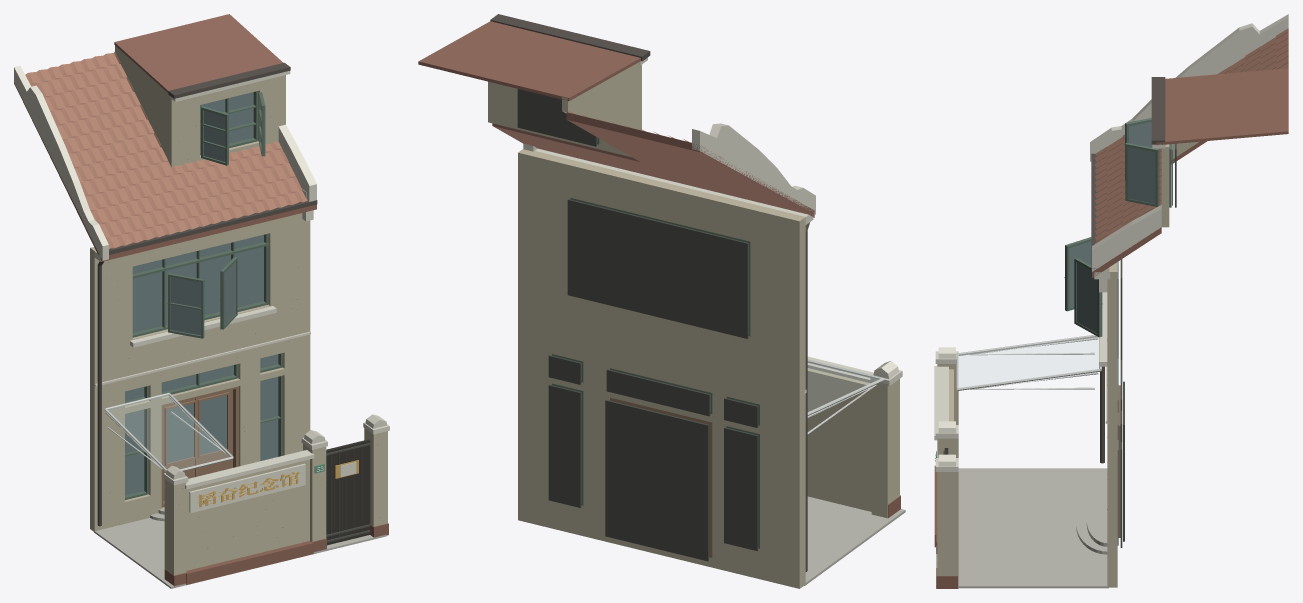
File: wanyi-no53-far.glb
The picture shows the model from 3 angles, left to right: view 1: azimuth 30°, elevation 25°; view 2: azimuth 150°, elevation 25°; view 3: azimuth 270°, elevation 25°; orthographic projection. The views are drawn at different scales.
Parts seen in each view (by area): view 1: 万宜坊韬奋纪念馆53号院门与南立面; view 2: 万宜坊韬奋纪念馆53号院门与南立面; view 3: 万宜坊韬奋纪念馆53号院门与南立面.
Boxes of the visible parts, x1,y1,x2,y2 form: 万宜坊韬奋纪念馆53号院门与南立面: [14, 14, 389, 588]; 万宜坊韬奋纪念馆53号院门与南立面: [418, 14, 905, 588]; 万宜坊韬奋纪念馆53号院门与南立面: [934, 14, 1288, 588].
Size of the model in its own units: 5.17 by 9.21 by 6.47.
